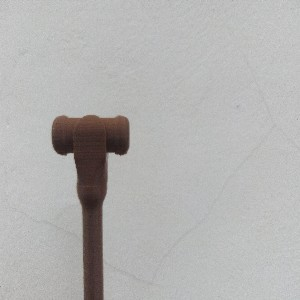palu: (51, 113, 130, 300)
